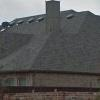Chimney: (41, 1, 69, 39)
